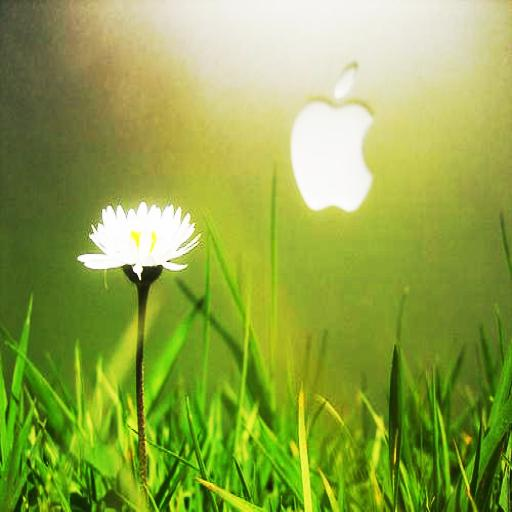daisy: (83, 205, 195, 280)
